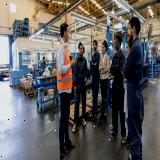Vest: (57, 44, 72, 91)
